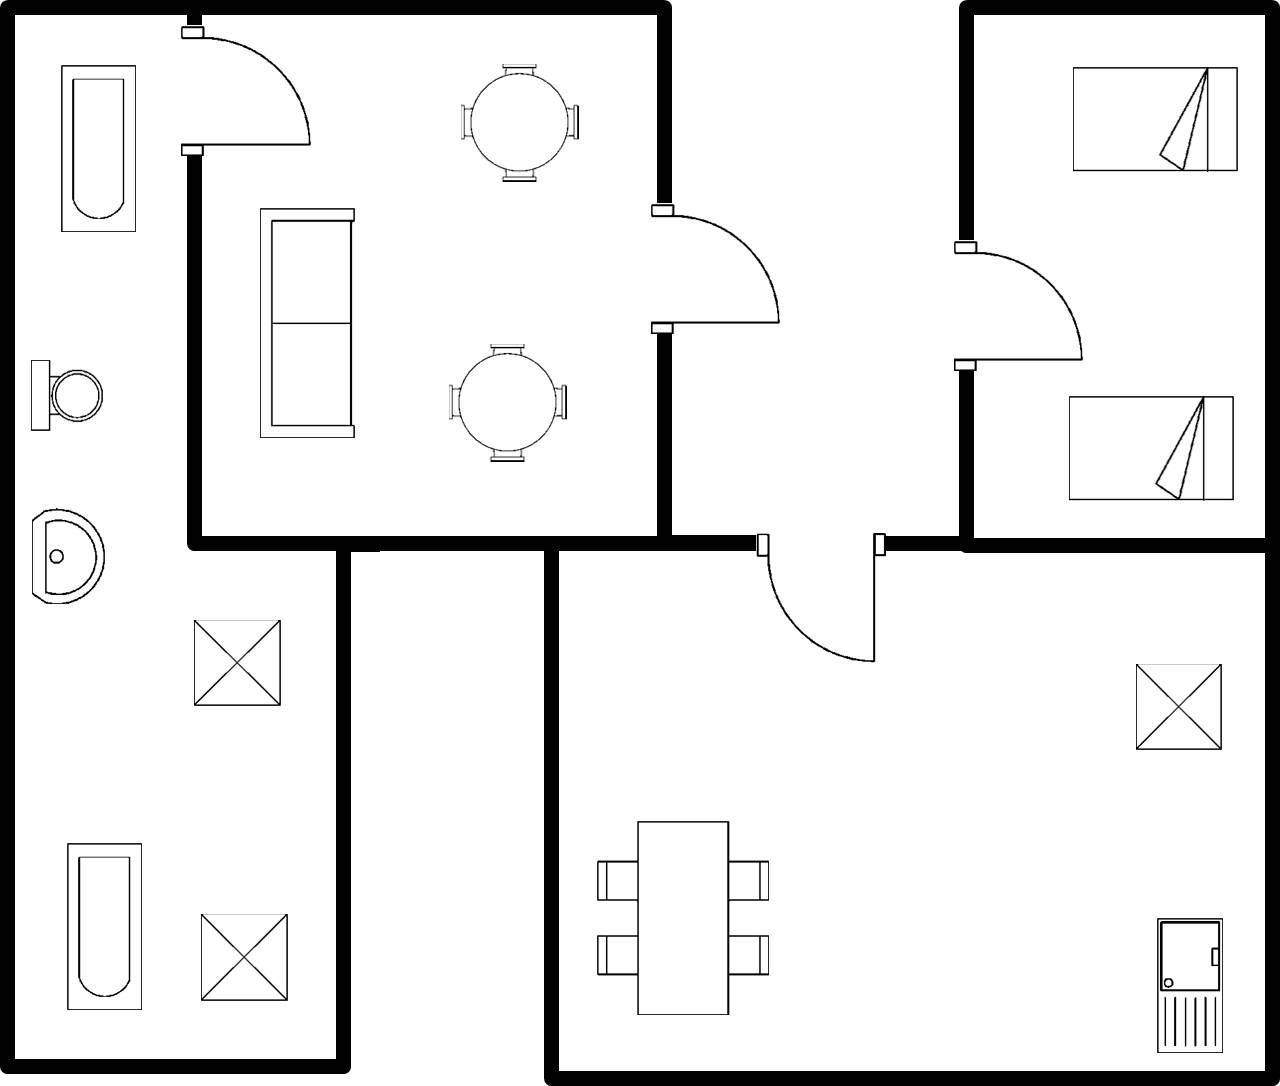bed: (1058, 386, 1247, 512), (1064, 57, 1248, 181)
coffee_table: (193, 903, 297, 1011), (1127, 654, 1232, 759), (188, 612, 289, 718)
dining_table: (587, 810, 777, 1030)
large_sink: (22, 353, 107, 444)
large_sofa: (253, 199, 361, 445)
round_table: (448, 56, 589, 195), (443, 337, 580, 471)
sink: (1147, 908, 1235, 1062)
small_sink: (22, 501, 111, 611)
tub: (58, 834, 151, 1020), (52, 55, 143, 243)
